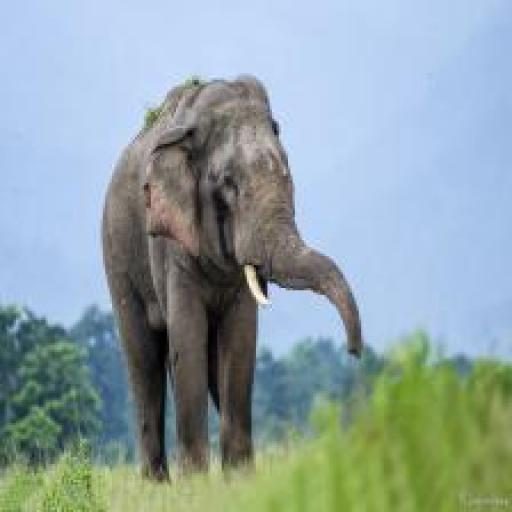Elephant: (89, 66, 370, 497)
